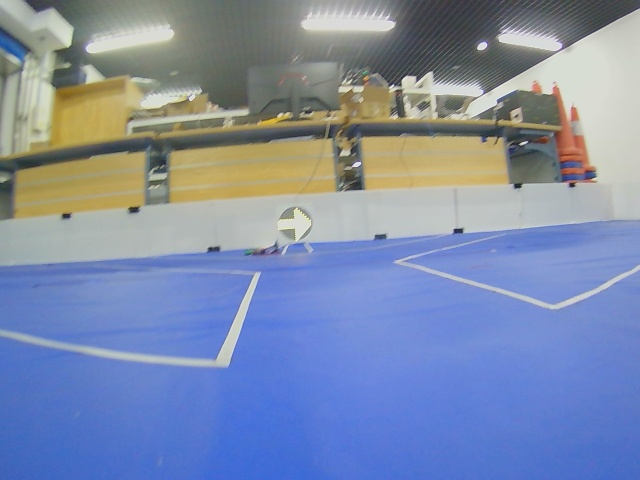right_yellow: (277, 207, 312, 242)
